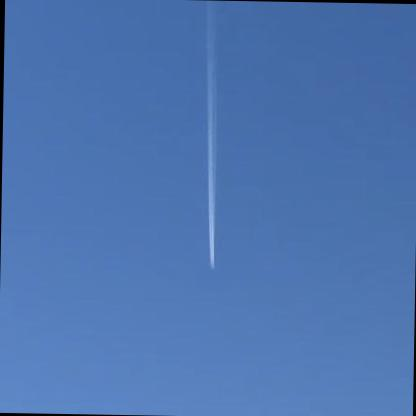plane: (206, 262, 219, 274)
